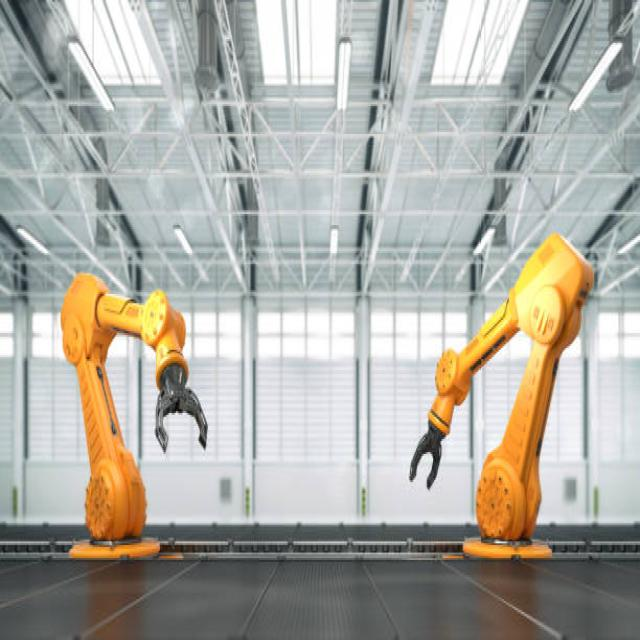Robotic-arm: (406, 225, 602, 573), (56, 269, 214, 571)
